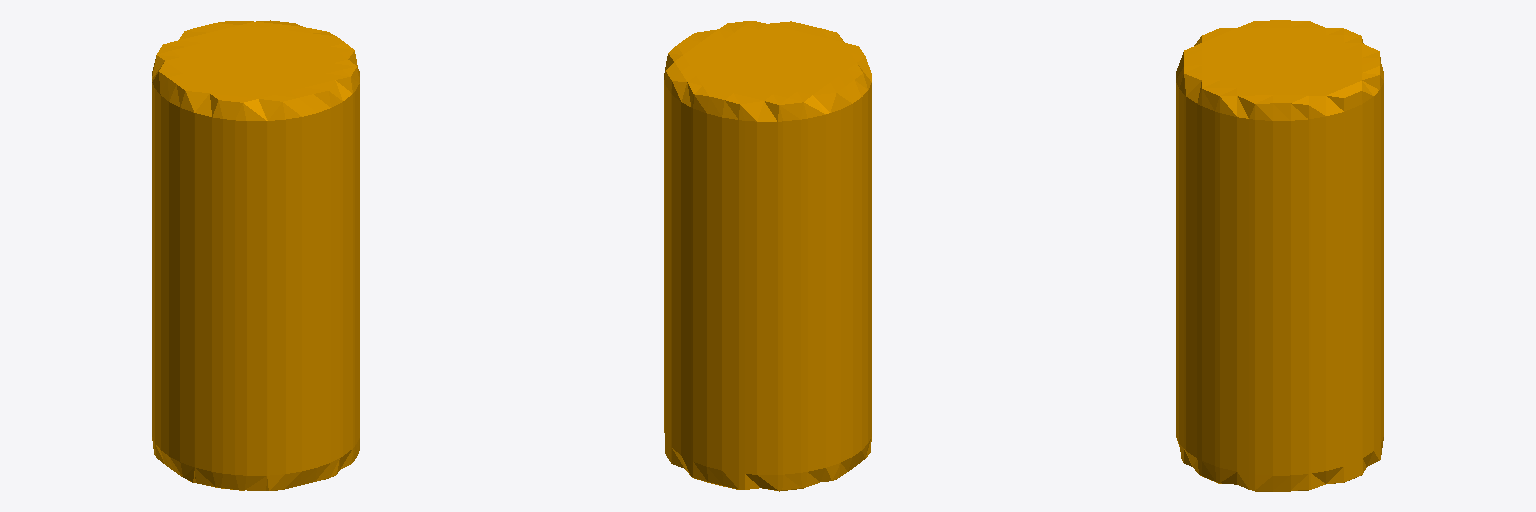
URDF robot description (cylinder_../../meshes/cylinders/cylinder_187.stl):
<?xml version="1.0" encoding="utf-8"?>  <robot name="cylinder_../../meshes/cylinders/cylinder_187.stl">   <link name="cylinder_../../meshes/cylinders/cylinder_187.stl">     <visual>       <geometry>         <mesh filename="../meshes/cylinders/cylinder_187.stl" scale="1 1 1"/>       </geometry>     </visual>     <collision>       <geometry>         <mesh filename="../meshes/cylinders/cylinder_187.stl" scale="1 1 1"/>       </geometry>     </collision>     <inertial>        <origin         xyz="0 0 0"         rpy="0 0 0" />       <mass value="0.3247987980836762"/>       <origin rpy="0 0 0" xyz="0 0 0"/>       <inertia ixx="0.00045975439365223883" ixy="1.8245029377621706e-08" ixz="-6.402793554946846e-08" iyy="0.000459752899198857" iyz="-7.85827864552492e-08" izz="0.00013937964873499747"/>     </inertial>   </link>  </robot>

--- Render facts (derived) ---
The picture shows the robot from 3 angles, left to right: view 1: azimuth 30°, elevation 25°; view 2: azimuth 150°, elevation 25°; view 3: azimuth 270°, elevation 25°; orthographic projection.
Robot: cylinder_../../meshes/cylinders/cylinder_187.stl — 1 links, 0 joints (none); root link cylinder_../../meshes/cylinders/cylinder_187.stl; default pose: all joints at 0.
Links seen in each view (by area): view 1: cylinder_../../meshes/cylinders/cylinder_187.stl; view 2: cylinder_../../meshes/cylinders/cylinder_187.stl; view 3: cylinder_../../meshes/cylinders/cylinder_187.stl.
Link boxes in pixels (bbox=[...]): cylinder_../../meshes/cylinders/cylinder_187.stl: bbox=[152, 20, 359, 490]; cylinder_../../meshes/cylinders/cylinder_187.stl: bbox=[664, 21, 871, 491]; cylinder_../../meshes/cylinders/cylinder_187.stl: bbox=[1176, 20, 1383, 491].
Bounding box of the posed robot: 0.0587 × 0.0587 × 0.1205 m (x, y, z).
1 mesh visuals loaded from 1 distinct referenced files (1 binary STL).